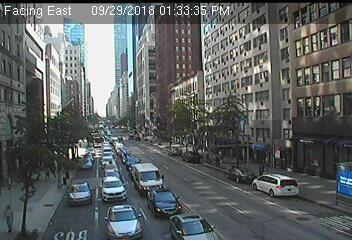car: (105, 205, 142, 240), (169, 214, 218, 240), (252, 173, 300, 198), (146, 189, 182, 217), (132, 163, 164, 194), (99, 177, 128, 203), (67, 182, 92, 206), (226, 167, 254, 185), (105, 169, 122, 184), (181, 151, 201, 163), (126, 156, 141, 172), (104, 161, 119, 173), (79, 158, 92, 170), (101, 157, 114, 167), (82, 152, 94, 162), (167, 147, 181, 155), (101, 152, 113, 161)
